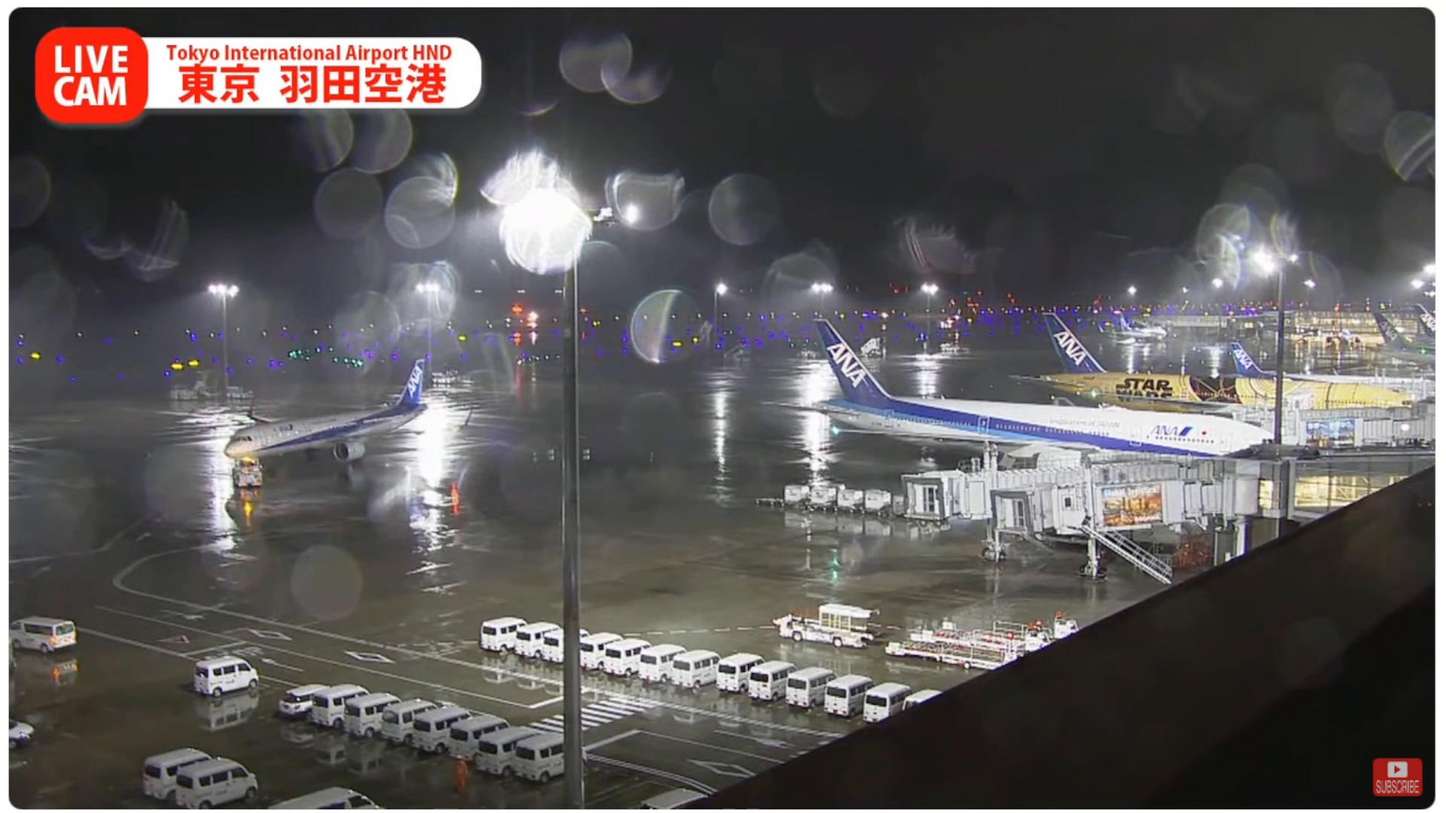APS: (231, 457, 265, 488)
Aerobridge: (898, 461, 1193, 525), (988, 473, 1227, 539)
Airplane: (222, 356, 473, 463)
Dolly: (781, 482, 896, 523)
JCPL: (914, 617, 1081, 654), (884, 636, 1033, 667)
Skyloader: (771, 602, 883, 649)
Window: (1289, 476, 1414, 509)
